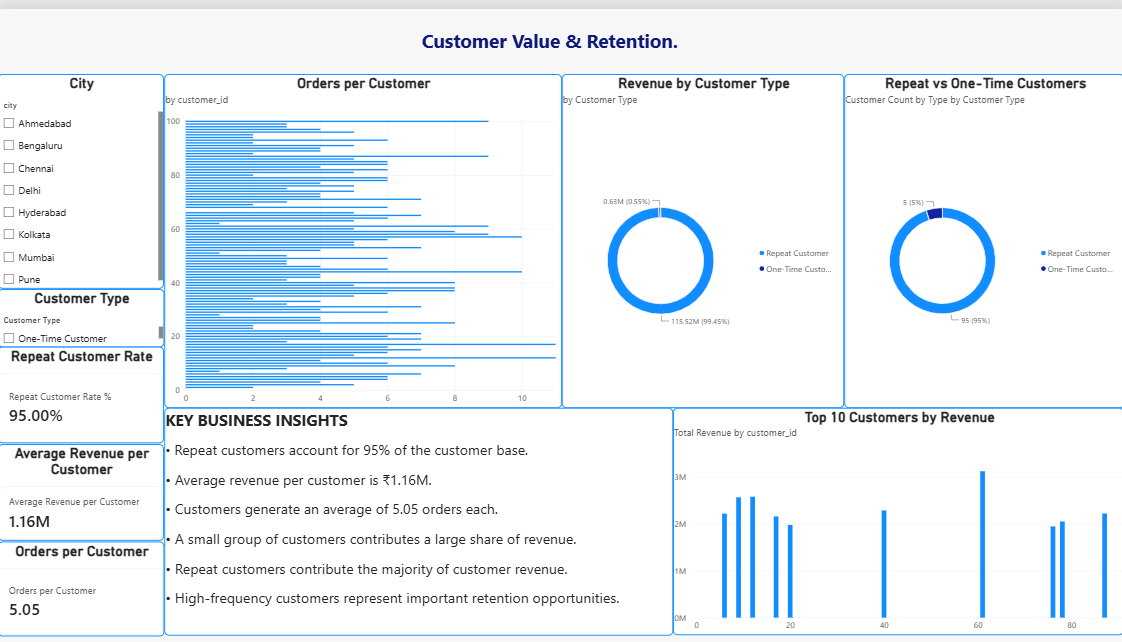

What the dashboard file says about the page in this screenshot:
{"tool":"powerbi","page":{"name":"customer Value & Retention","canvas":[1920,1080],"ordinal":9},"visuals":[{"type":"cardVisual","title":"Repeat Customer Rate","fields":{"Data":["customers.Repeat Rate %"]},"box":[0,575.5,282.3,164.7],"z":0},{"type":"cardVisual","title":"Orders per Customer","fields":{"Data":["customers.Orders per Customer"]},"box":[0,905.7,283,161.3],"z":1},{"type":"cardVisual","title":"Average Revenue per Customer","fields":{"Data":["customers.Average Revenue per Customer"]},"box":[0,740.2,282.3,164.7],"z":2},{"type":"donutChart","fields":{"Category":["Customer Type.Customer Type"],"Y":["Customer Type.Revenue by Customer Type"]},"box":[959.4,110.4,481.1,568.9],"z":3},{"type":"donutChart","title":"Repeat vs One-Time Customers","fields":{"Category":["Customer Type.Customer Type"],"Y":["Customer Type.Customer Count by Type"]},"box":[1440.6,110.4,478.3,568.9],"z":4},{"type":"columnChart","title":"Top 10 Customers by Revenue","fields":{"Category":["customers.customer_id"],"Y":["order_items.Total Revenue"]},"box":[1149.1,678.6,769.1,387.3],"z":5},{"type":"clusteredBarChart","fields":{"Category":["customers.customer_id"],"Y":["customers.Orders per Customer"]},"box":[283,110.4,676.4,568.9],"z":6},{"type":"slicer","title":"Customer Type","fields":{"Values":["Customer Type.Customer Type"]},"box":[0,475.9,283,99.1],"z":7},{"type":"slicer","title":"City","fields":{"Values":["customers.city"]},"box":[0,110.4,282.3,365.6],"z":8},{"type":"textbox","box":[721.7,31.1,475.5,56.6],"z":9},{"type":"textbox","box":[283,679.3,866,387.7],"z":10}]}

Visuals, with their boxes in screenshot pixels (x1, y1, x2, y2), scaled from the page's 1920x1080 canvas onto the 1122x642 screenshot:
"Repeat Customer Rate" cardVisual: {"left": 0, "top": 342, "right": 165, "bottom": 440}
"Orders per Customer" cardVisual: {"left": 0, "top": 538, "right": 165, "bottom": 634}
"Average Revenue per Customer" cardVisual: {"left": 0, "top": 440, "right": 165, "bottom": 538}
donutChart - Customer Type.Customer Type x Customer Type.Revenue by Customer Type: {"left": 561, "top": 66, "right": 842, "bottom": 404}
"Repeat vs One-Time Customers" donutChart: {"left": 842, "top": 66, "right": 1121, "bottom": 404}
"Top 10 Customers by Revenue" columnChart: {"left": 672, "top": 403, "right": 1121, "bottom": 634}
clusteredBarChart - customers.customer_id x customers.Orders per Customer: {"left": 165, "top": 66, "right": 561, "bottom": 404}
"Customer Type" slicer: {"left": 0, "top": 283, "right": 165, "bottom": 342}
"City" slicer: {"left": 0, "top": 66, "right": 165, "bottom": 283}
textbox: {"left": 422, "top": 18, "right": 700, "bottom": 52}
textbox: {"left": 165, "top": 404, "right": 671, "bottom": 634}
